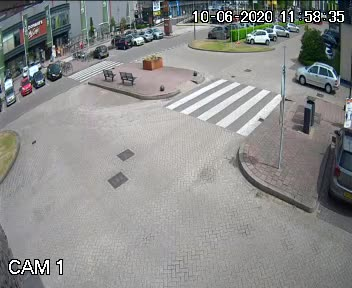car: (288, 60, 339, 98)
